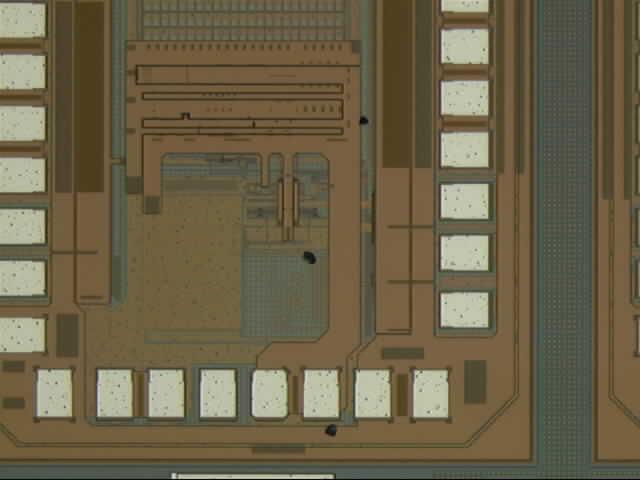PO CONTAMINATION: (302, 249, 343, 443)
